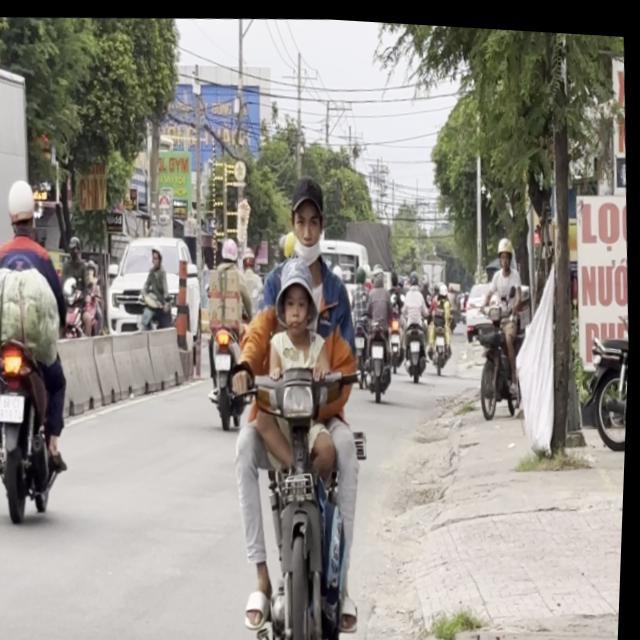helmet: (4, 175, 38, 234), (496, 227, 516, 264), (220, 231, 239, 261)
licenseplate: (209, 161, 388, 640), (0, 170, 84, 523), (457, 224, 536, 416), (198, 230, 262, 427)
motorcyclist: (274, 250, 325, 340), (288, 176, 329, 254)
nohelmet: (0, 390, 27, 423), (217, 349, 233, 367)
